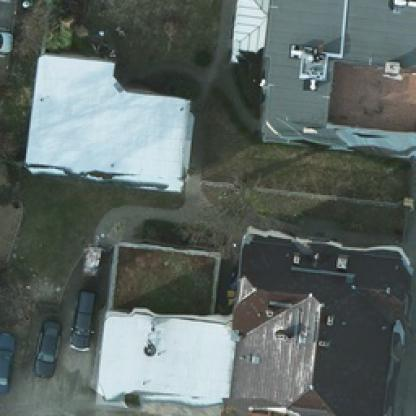car: (68, 288, 94, 350), (32, 318, 58, 380), (0, 328, 13, 388)
